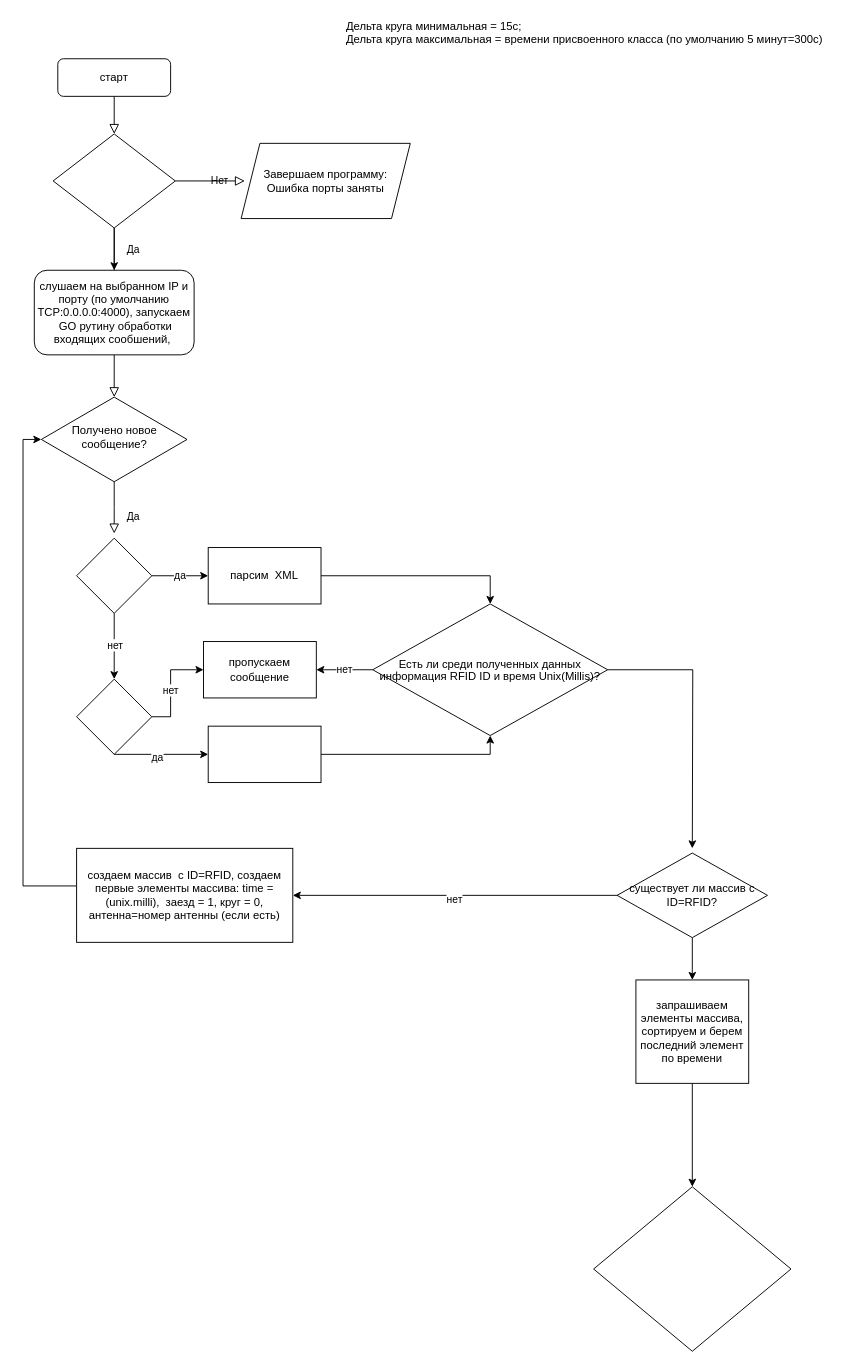
Some shapes in this 859 by 1368 pixel diagram are drawn without their labels. The shapes that lost their labels are listed below. From the top down, each one's centre as x and y in pixels, then its label:
At point (113, 180): "свободны ли выбранный IP и порт?".
At point (114, 575): "Формат XML?".
At point (114, 716): "Формат ТЕКСТ?".
At point (264, 754): "парсим текст".
At point (692, 1268): "запрошенное крайнее время больше текущего на дельту круга минимальное?".
